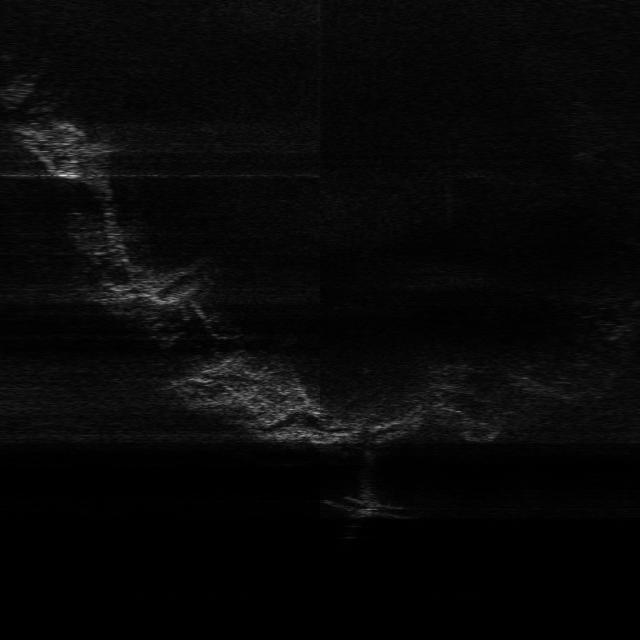plane: (320, 493, 414, 522)
